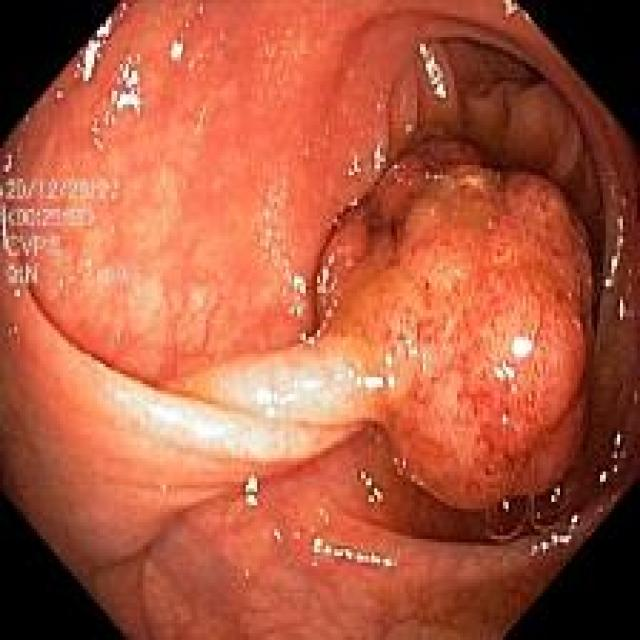Polyps: (171, 139, 592, 509)
